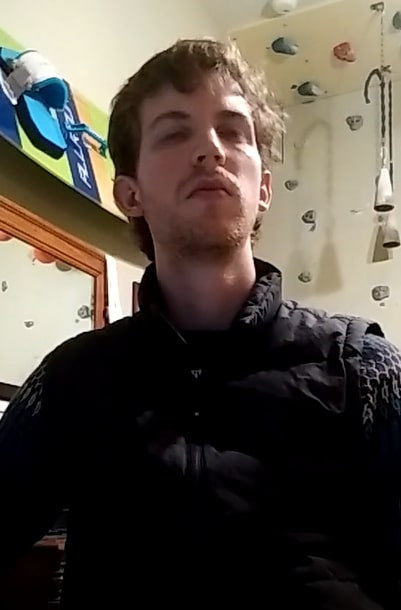Half Asleep: (145, 114, 258, 153)
